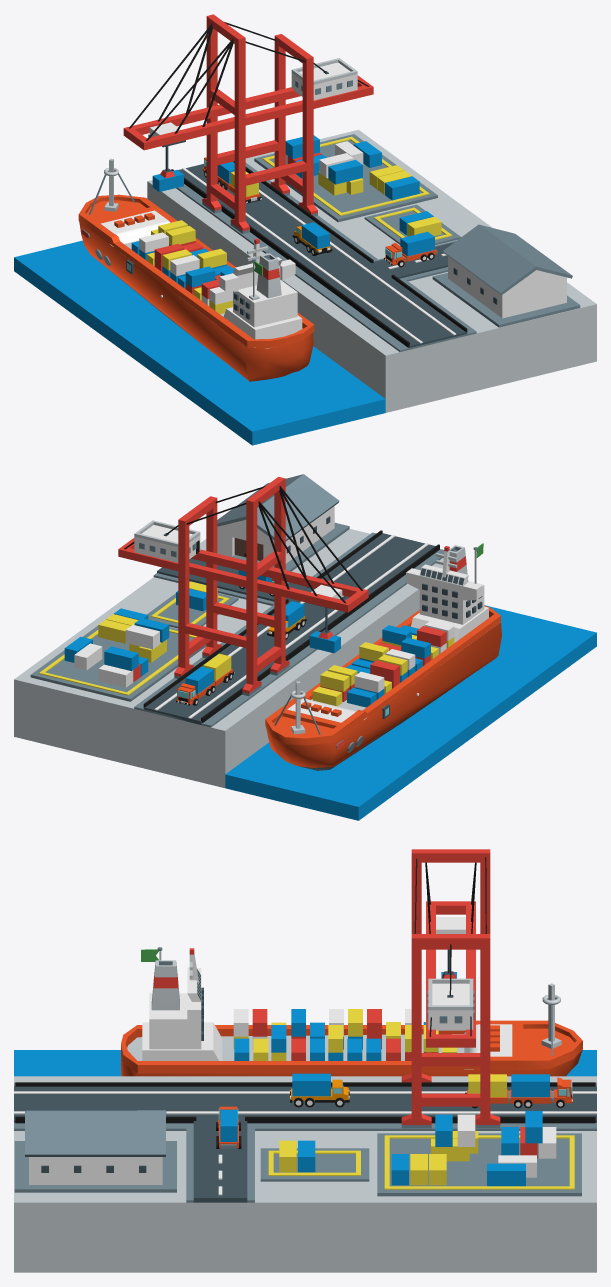
File: porto_.fbx
The picture shows the model from 3 angles, top to bottom: view 1: azimuth 30°, elevation 25°; view 2: azimuth 150°, elevation 25°; view 3: azimuth 270°, elevation 25°; orthographic projection. The views are drawn at different scales.
Parts seen in each view (by area): view 1: terreno, navio, mar, Null, Null_3, armazem_2, containers, group_1692546767, armazem, carreta2, carreta3, Null_4 (+1 smaller); view 2: terreno, navio, mar, Null, Null_3, containers, armazem_2, group_1692546767, Null_4, armazem, carreta3, Null_2; view 3: terreno, Null, navio, Null_3, containers, armazem_2, armazem, mar, group_1692546767, Null_4, carreta3, Null_2 (+1 smaller).
Boxes of the visible parts, x1=… form: terreno: x1=147, y1=129, x2=596, y2=412; navio: x1=78, y1=158, x2=314, y2=381; mar: x1=14, y1=240, x2=385, y2=445; Null: x1=171, y1=134, x2=476, y2=351; Null_3: x1=123, y1=14, x2=373, y2=210; armazem_2: x1=443, y1=224, x2=572, y2=318; containers: x1=285, y1=135, x2=441, y2=236; group_1692546767: x1=230, y1=35, x2=317, y2=233; armazem: x1=432, y1=273, x2=580, y2=327; carreta2: x1=384, y1=231, x2=437, y2=267; carreta3: x1=292, y1=222, x2=332, y2=255; Null_4: x1=202, y1=157, x2=261, y2=203; terreno: x1=14, y1=529, x2=443, y2=787; navio: x1=265, y1=543, x2=501, y2=770; mar: x1=225, y1=605, x2=596, y2=820; Null: x1=30, y1=530, x2=444, y2=727; Null_3: x1=118, y1=479, x2=368, y2=693; containers: x1=64, y1=581, x2=217, y2=687; armazem_2: x1=217, y1=474, x2=339, y2=566; group_1692546767: x1=202, y1=476, x2=289, y2=675; Null_4: x1=176, y1=653, x2=233, y2=705; armazem: x1=217, y1=522, x2=349, y2=571; carreta3: x1=267, y1=601, x2=306, y2=639; Null_2: x1=189, y1=636, x2=281, y2=672; terreno: x1=14, y1=1076, x2=596, y2=1272; Null: x1=14, y1=1082, x2=596, y2=1202; navio: x1=121, y1=947, x2=582, y2=1076; Null_3: x1=414, y1=849, x2=500, y2=1124; containers: x1=279, y1=1111, x2=556, y2=1186; armazem_2: x1=25, y1=1110, x2=166, y2=1184; armazem: x1=14, y1=1141, x2=176, y2=1192; mar: x1=14, y1=1050, x2=596, y2=1076; group_1692546767: x1=401, y1=849, x2=431, y2=1128; Null_4: x1=465, y1=1074, x2=572, y2=1108; carreta3: x1=290, y1=1073, x2=349, y2=1107; Null_2: x1=421, y1=1053, x2=480, y2=1106.
Size of the model in its own units: 390 by 271 by 467.
